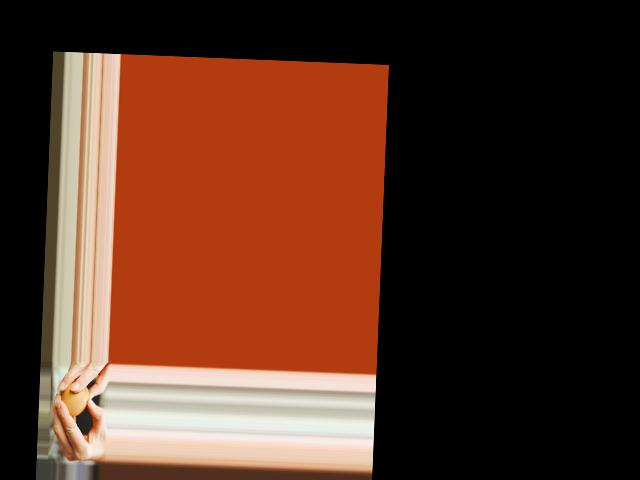egg: (59, 381, 89, 416)
